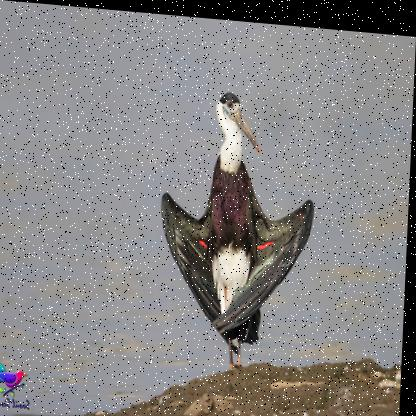Burung: (157, 81, 322, 367)
